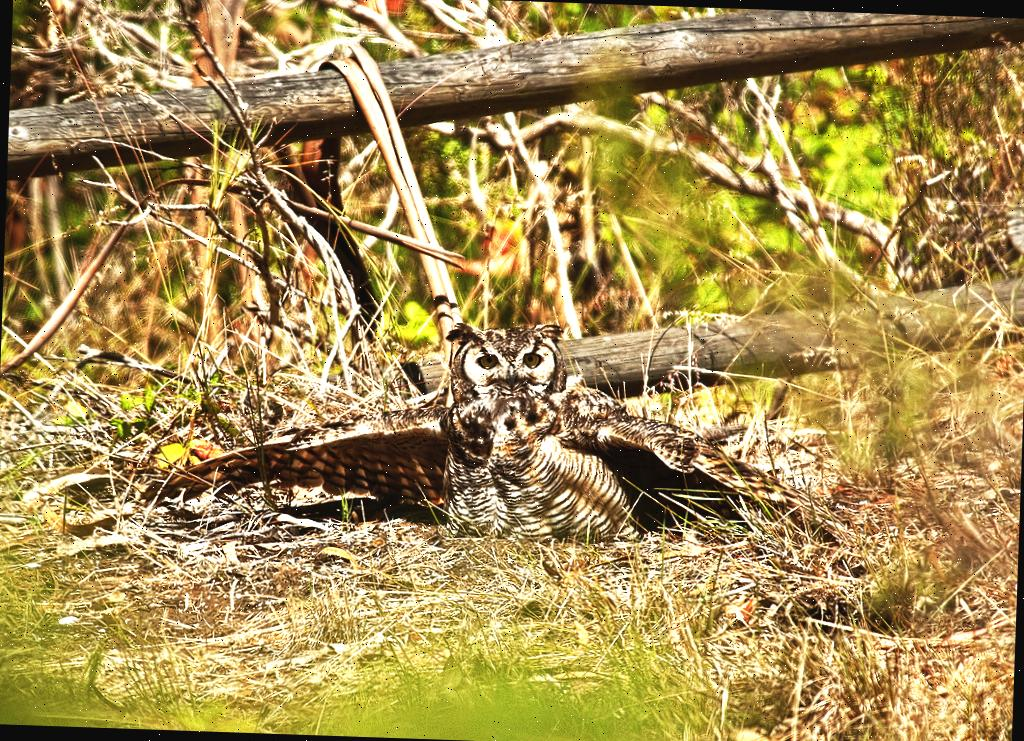Owl: (160, 304, 840, 554)
